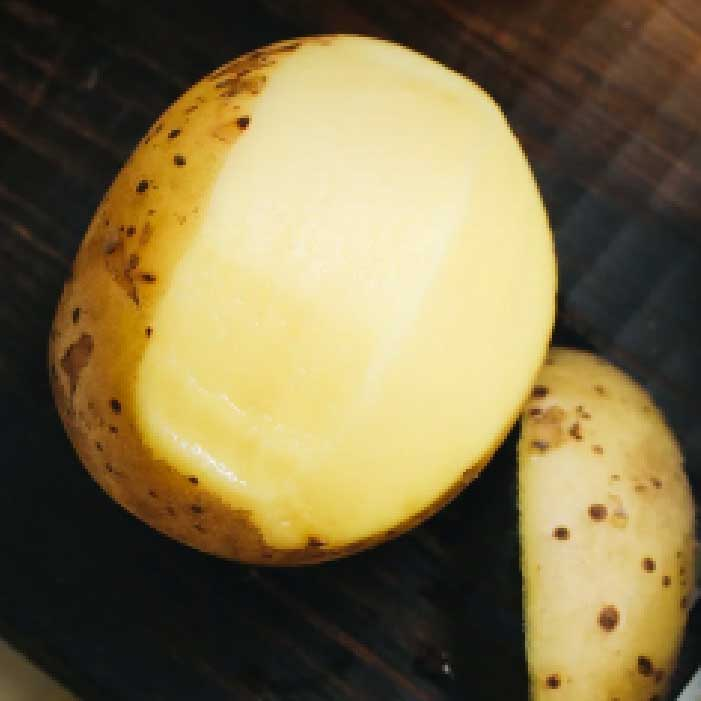Kartoffel: (49, 33, 557, 566)
